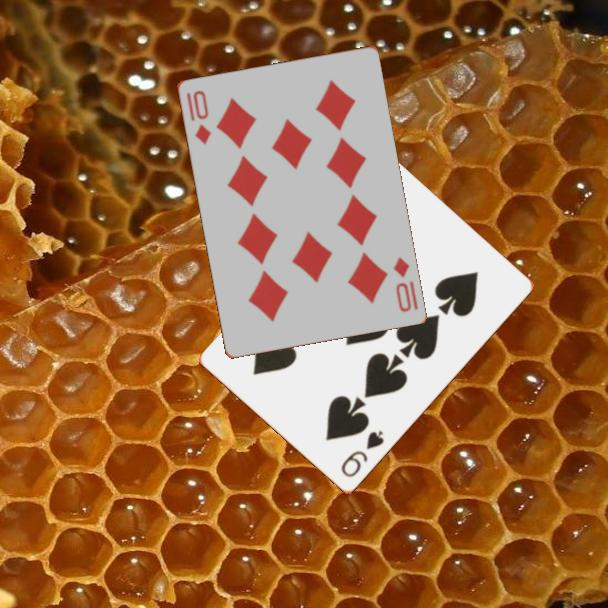d10: (389, 253, 420, 315), (183, 87, 214, 147)
s09: (338, 427, 387, 481)
